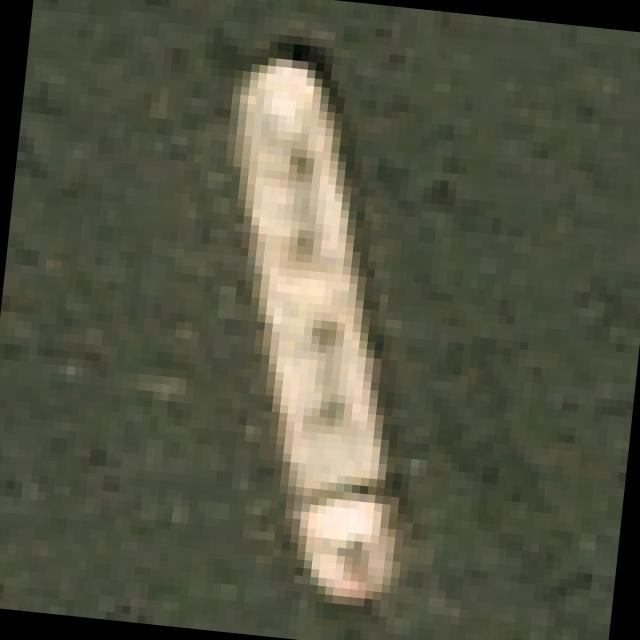ship: (134, 29, 475, 628)
